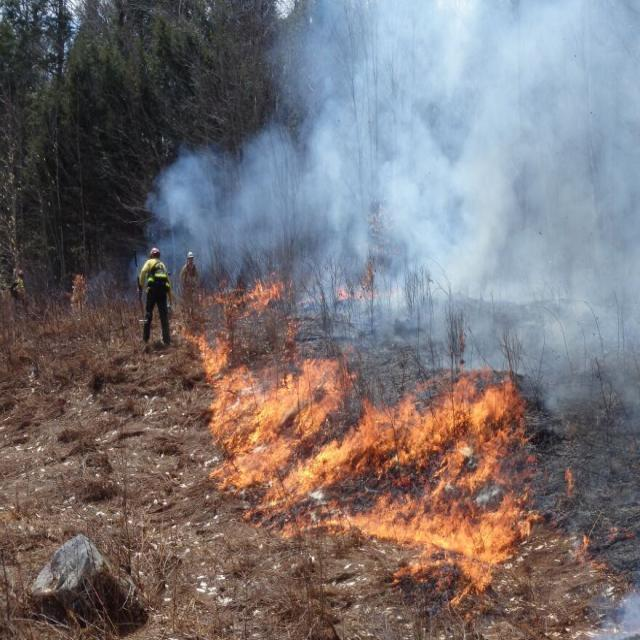Fire: (175, 320, 568, 605)
Smoke: (186, 0, 640, 417)
